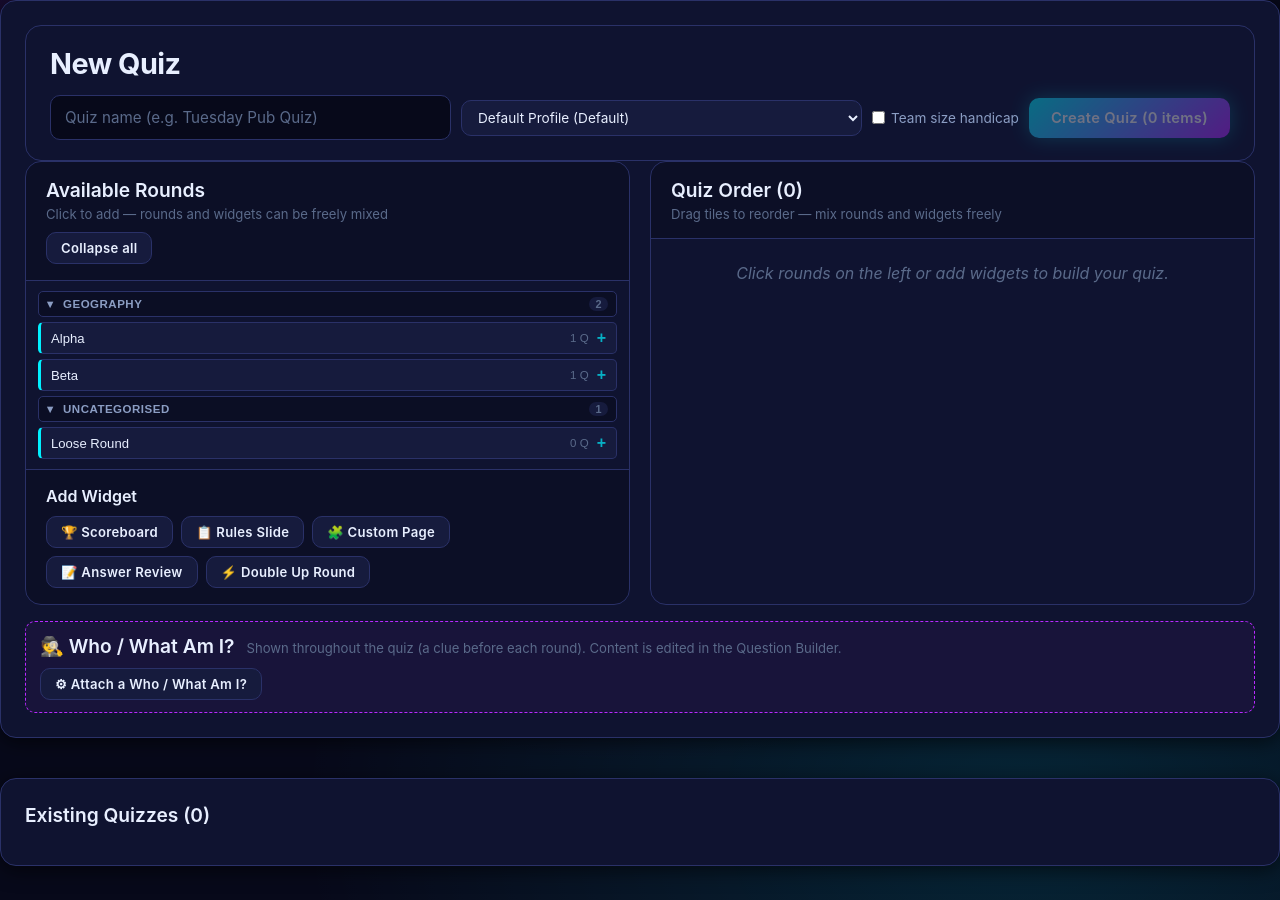
Test: QuizBuilder — Available Rounds grouping › groups rounds by category, with uncategorised last, and collapse-all works
The width and height of the screenshot is (1280, 900).
Expected: the text "Geography" is shown, [63,298,142,310]
Expected: the text "Uncategorised" is shown, [63,403,170,415]
# Collapse all hides the chips…
What coordinates should you click on to do the following:
click the button "Collapse all"
I would click on:
 (99, 248)
Its box is [46,232,152,264].
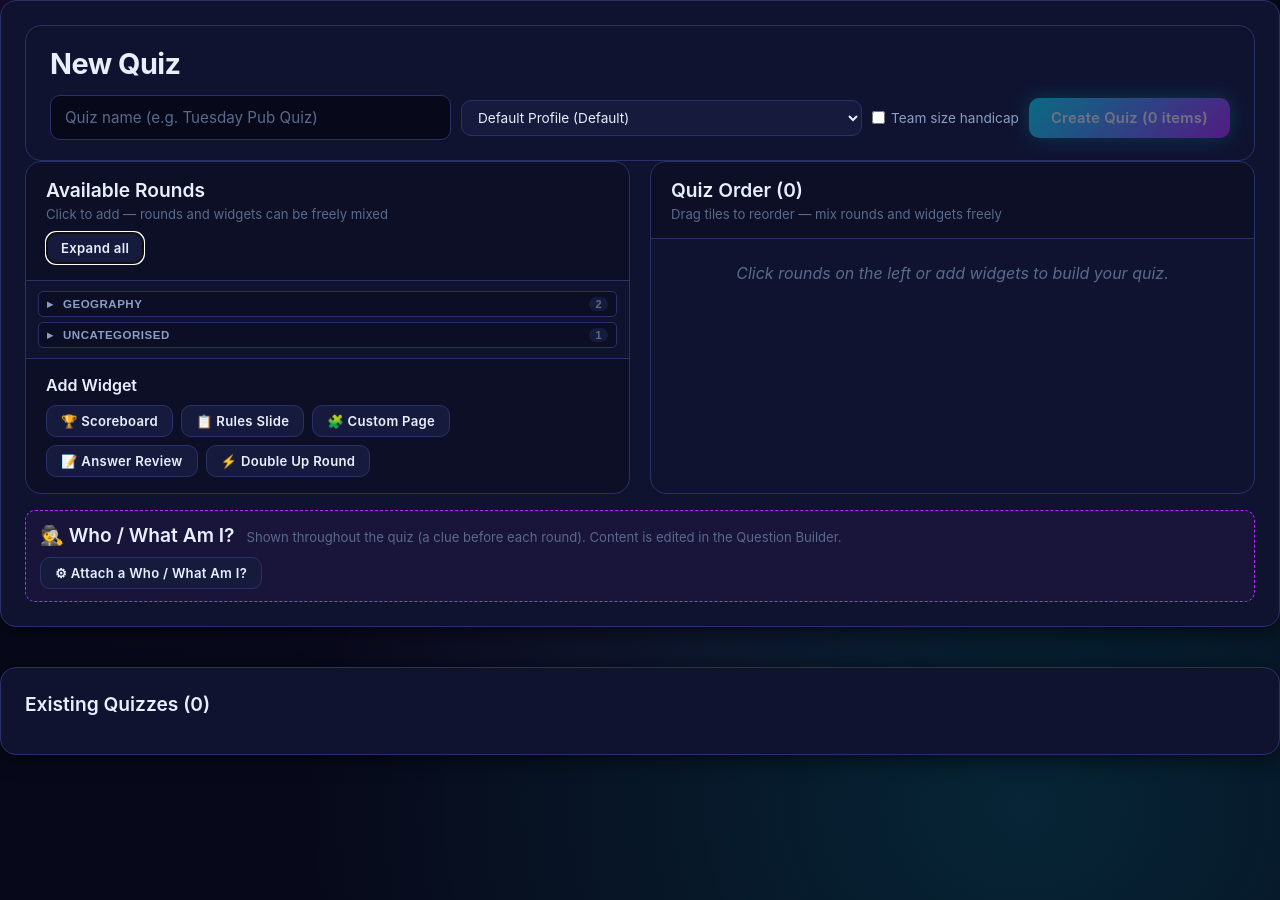
# …and expand brings them back.
What coordinates should you click on to do the following:
click the button "Expand all"
I would click on:
 (95, 248)
Its box is [46,232,144,264].
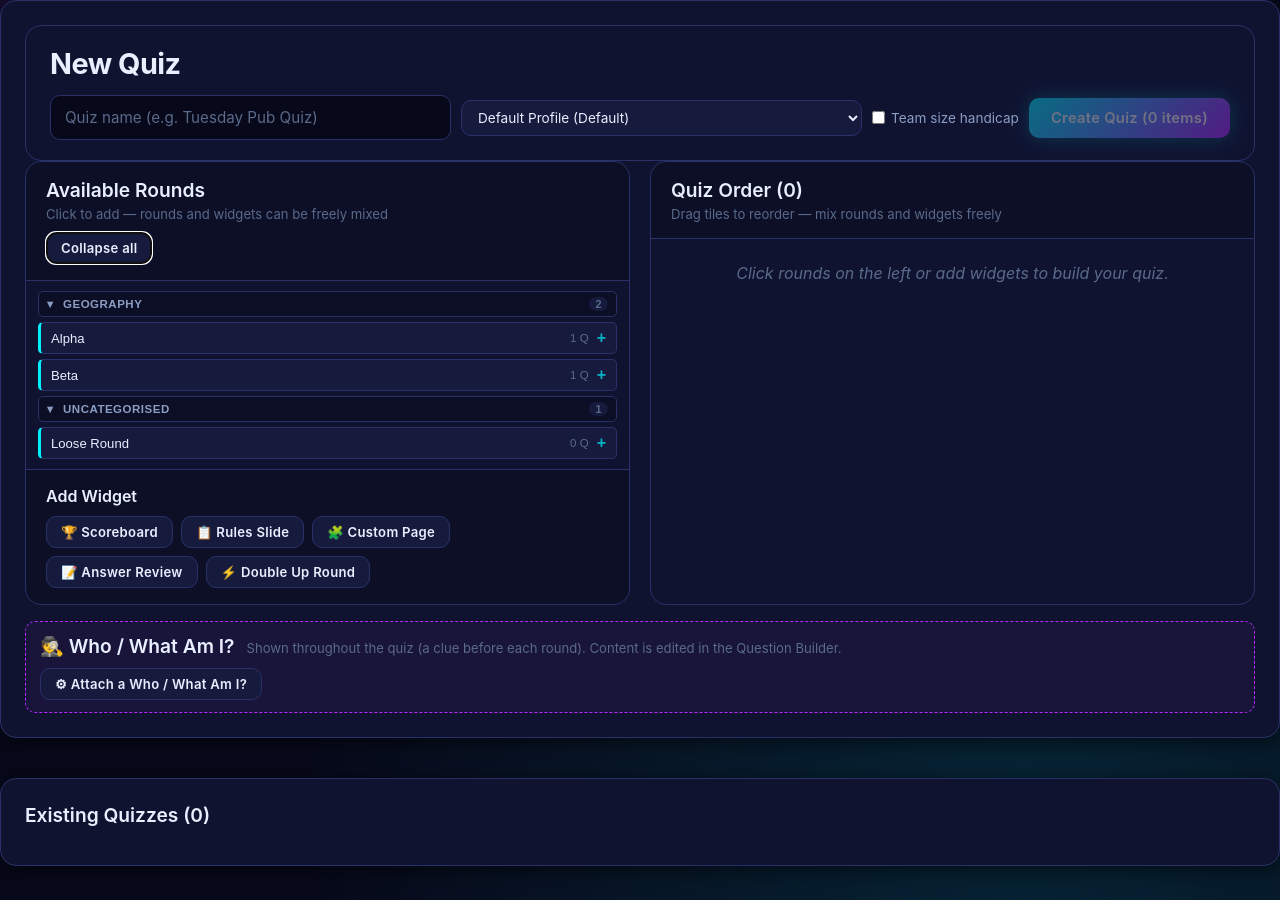
Now the button titled "Add \"Alpha\" to quiz" is shown, box [38,322,617,354]
